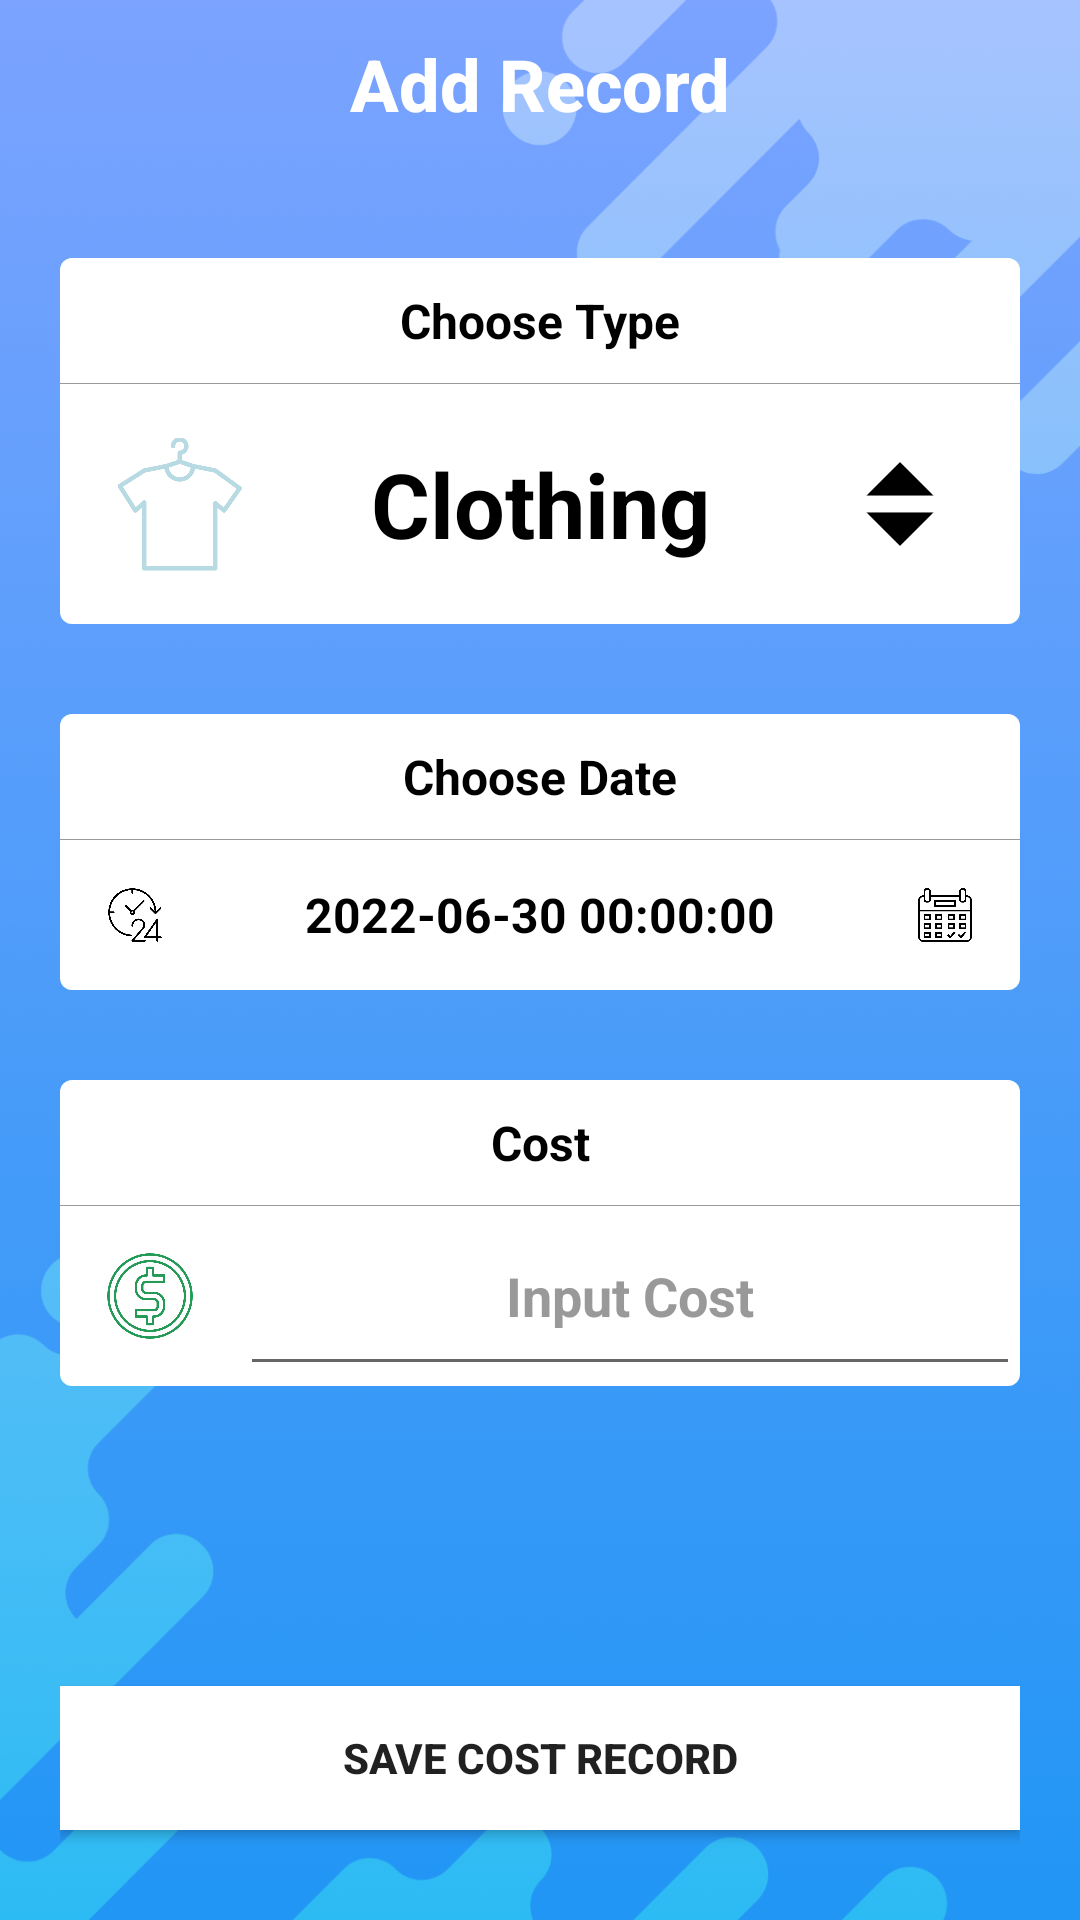

Point at icon controls on the screen. Image size 1080px x 1920px, points as [x,y].
in charges: [150,1296]
time: [135,915]
